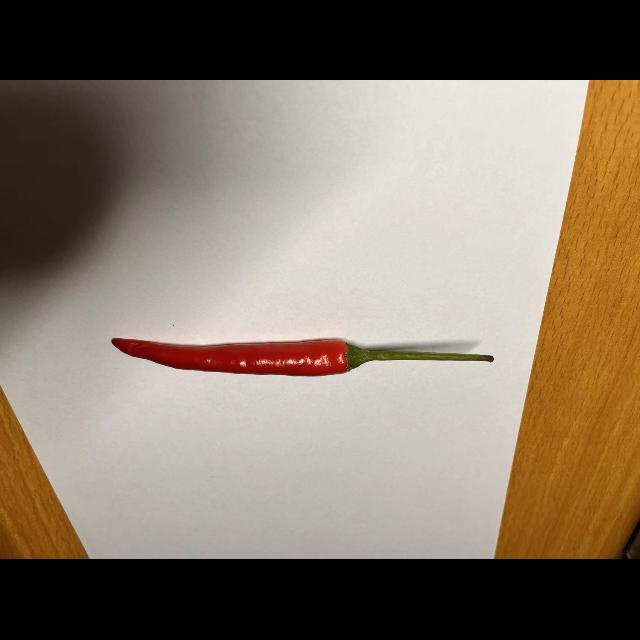chili_pepper: (107, 312, 496, 393)
